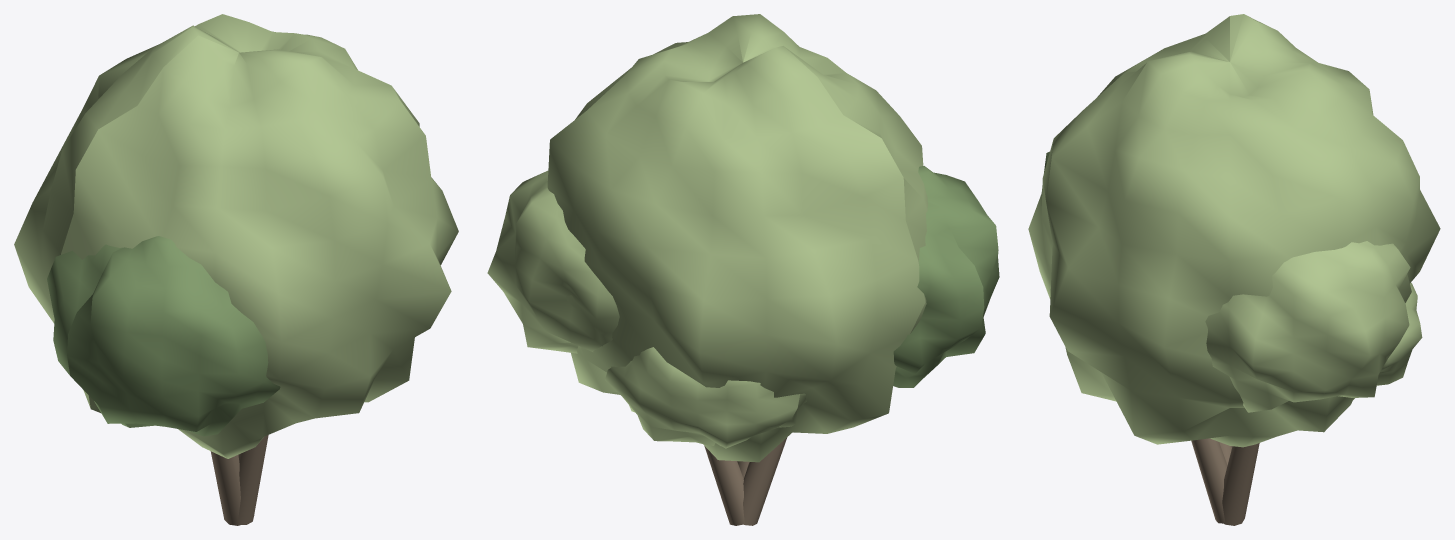
The model's file is husos-som.glb.
3 views of the same model, side by side, from view 1: azimuth 30°, elevation 25°; view 2: azimuth 150°, elevation 25°; view 3: azimuth 270°, elevation 25° (orthographic).
Visible parts, largest first — view 1: korona-1, korona-2, to-3, to-1; view 2: korona-1, korona-3, korona-2, korona-5, to-1, to-2; view 3: korona-1, korona-3, to-2, to-3, korona-5.
Part boxes in pixels (x1,y1,x2,y2): korona-1: (14,14,458,458); korona-2: (47,236,280,436); to-3: (236,435,268,524); to-1: (210,451,241,525); korona-1: (547,14,927,462); korona-3: (487,170,619,353); korona-2: (893,166,999,387); korona-5: (605,347,806,448); to-1: (743,437,787,525); to-2: (704,446,744,525); korona-1: (1028,14,1440,447); korona-3: (1205,241,1411,412); to-2: (1222,443,1259,525); to-3: (1191,438,1227,523); korona-5: (1353,283,1422,399).
Size of the model in its own units: 4.74 by 5.41 by 4.14.
